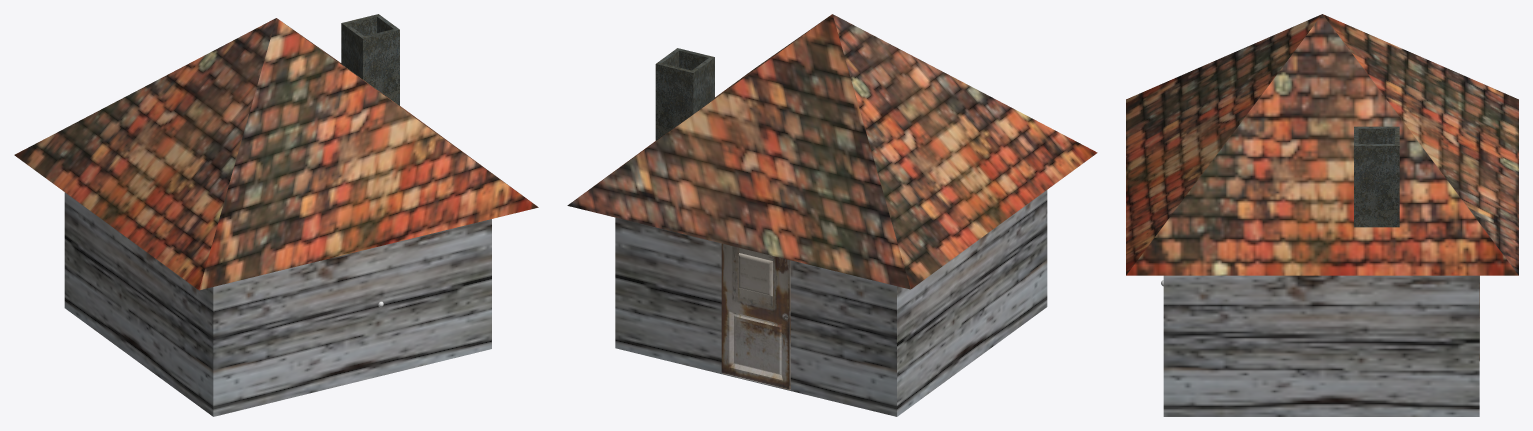
File: walls .fbx
3 views of the same model, side by side, from view 1: azimuth 30°, elevation 25°; view 2: azimuth 150°, elevation 25°; view 3: azimuth 270°, elevation 25° (orthographic). The views are drawn at different scales.
Visible parts, largest first — view 1: Plane, Cube, Cube.001; view 2: Plane, Cube, Cube.002, Cube.001; view 3: Plane, Cube, Cube.001.
Boxes of the visible parts, bbox=[...] form: Plane: bbox=[14, 18, 538, 290]; Cube: bbox=[64, 192, 491, 416]; Cube.001: bbox=[341, 14, 399, 105]; Plane: bbox=[567, 14, 1097, 289]; Cube: bbox=[615, 190, 1047, 416]; Cube.002: bbox=[721, 243, 790, 389]; Cube.001: bbox=[655, 48, 714, 140]; Plane: bbox=[1126, 14, 1518, 275]; Cube: bbox=[1163, 275, 1479, 416]; Cube.001: bbox=[1354, 126, 1399, 227].
Bounding box in the file's own units: 1824 × 1593 × 1719.
